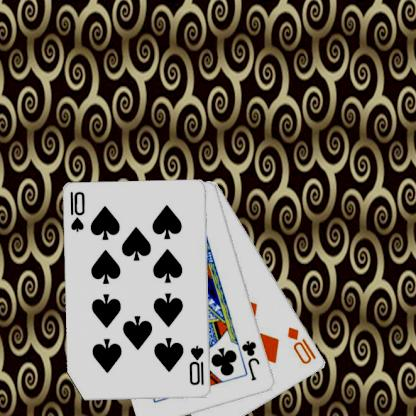10D: (285, 324, 318, 366)
10S: (68, 189, 87, 234), (188, 343, 206, 387)
JC: (239, 338, 261, 383)
